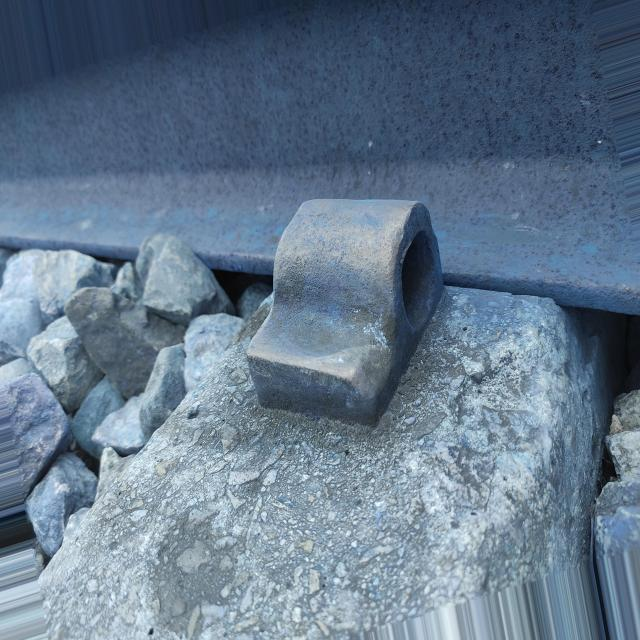Missing Fastener: (202, 148, 491, 462)
